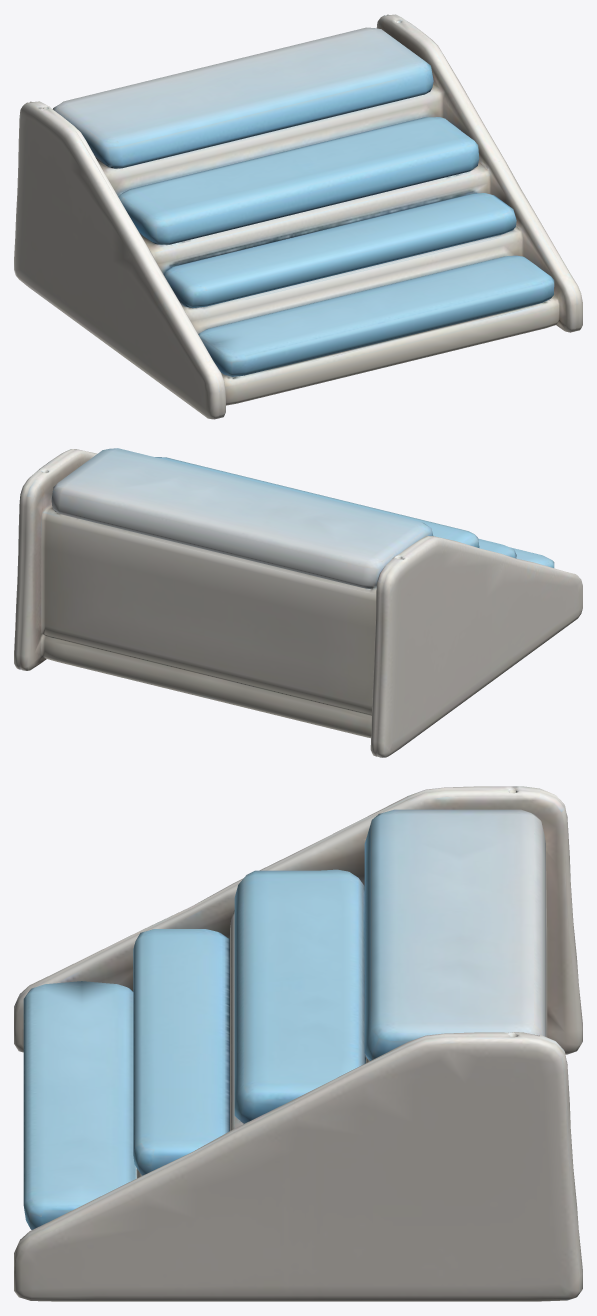
Rendered from bleachers.glb.
3 views of the same model, one above another, from view 1: azimuth 30°, elevation 25°; view 2: azimuth 150°, elevation 25°; view 3: azimuth 270°, elevation 25° (orthographic). The views are drawn at different scales.
Parts seen in each view (by area): view 1: tripo_node_51fa9c5d-a75b-49b9-8a74-730be2addd12; view 2: tripo_node_51fa9c5d-a75b-49b9-8a74-730be2addd12; view 3: tripo_node_51fa9c5d-a75b-49b9-8a74-730be2addd12.
Boxes of the visible parts, box(x1,y1,x2,y2) form: tripo_node_51fa9c5d-a75b-49b9-8a74-730be2addd12: box(14, 14, 582, 419); tripo_node_51fa9c5d-a75b-49b9-8a74-730be2addd12: box(14, 448, 582, 757); tripo_node_51fa9c5d-a75b-49b9-8a74-730be2addd12: box(14, 786, 582, 1301).
Bounding box in the file's own units: 0.998 × 0.4746 × 0.9316.
1 material, 1 textured.
